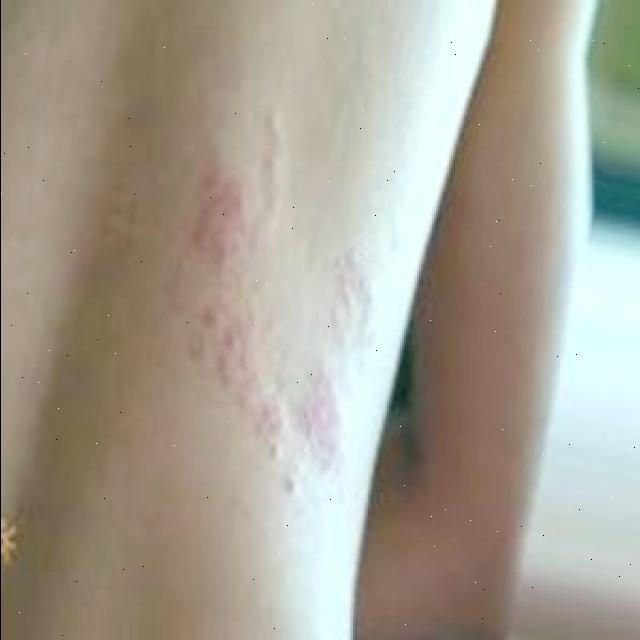Shingles: (189, 167, 366, 491)
